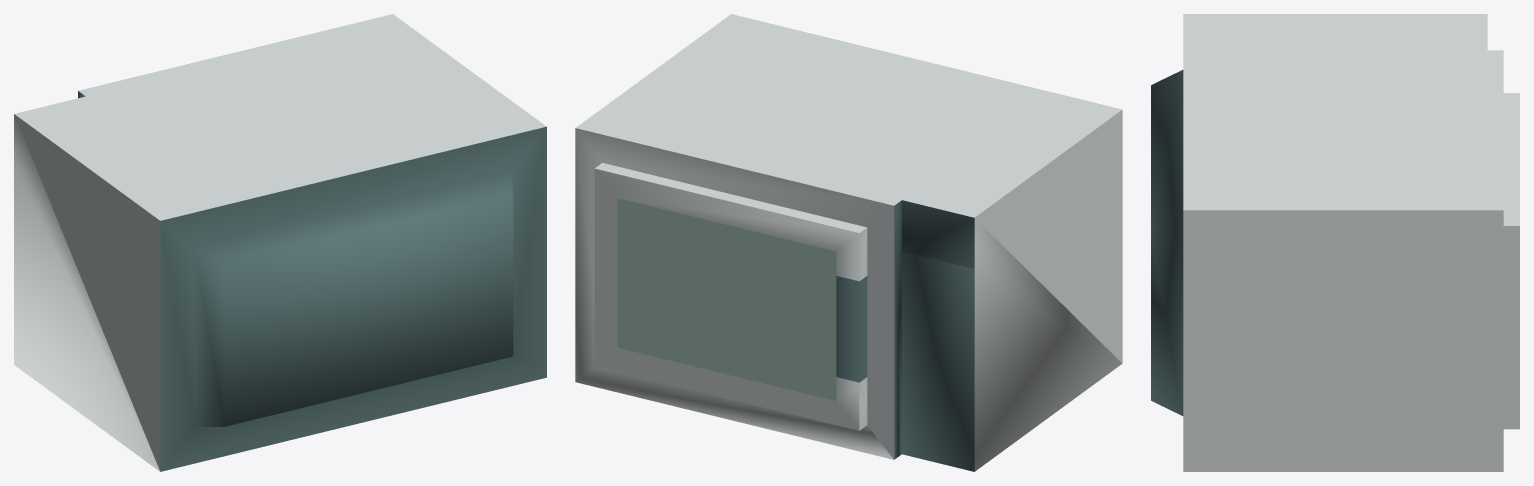
The model's file is kitchen-microwave.glb.
3 views of the same model, side by side, from view 1: azimuth 30°, elevation 25°; view 2: azimuth 150°, elevation 25°; view 3: azimuth 270°, elevation 25° (orthographic). The views are drawn at different scales.
Visible parts, largest first — view 1: kitchen-microwave; view 2: kitchen-microwave; view 3: kitchen-microwave.
Part boxes in pixels (x1,y1,x2,y2): kitchen-microwave: (14,14,546,471); kitchen-microwave: (575,14,1122,471); kitchen-microwave: (1151,14,1519,471).
Bounding box in the file's own units: 0.5 × 0.3103 × 0.3966.
